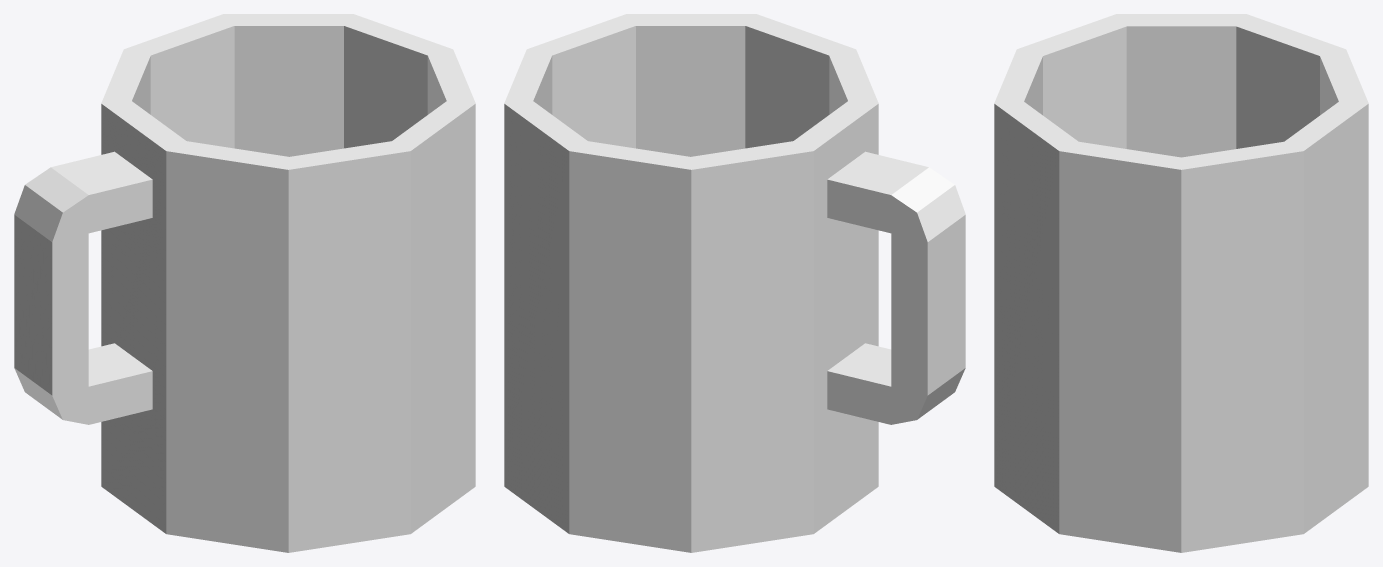
The model's file is mug.fbx.
The picture shows the model from 3 angles, left to right: view 1: azimuth 30°, elevation 25°; view 2: azimuth 150°, elevation 25°; view 3: azimuth 270°, elevation 25°; orthographic projection.
Visible parts, largest first — view 1: mug; view 2: mug; view 3: mug.
Part boxes in pixels (left/top/right/bottom): mug: left=14, top=14, right=475, bottom=552; mug: left=504, top=14, right=965, bottom=552; mug: left=994, top=14, right=1368, bottom=552.
Size of the model in its own units: 11.47 by 10 by 8.86.
1 material, 1 textured.
